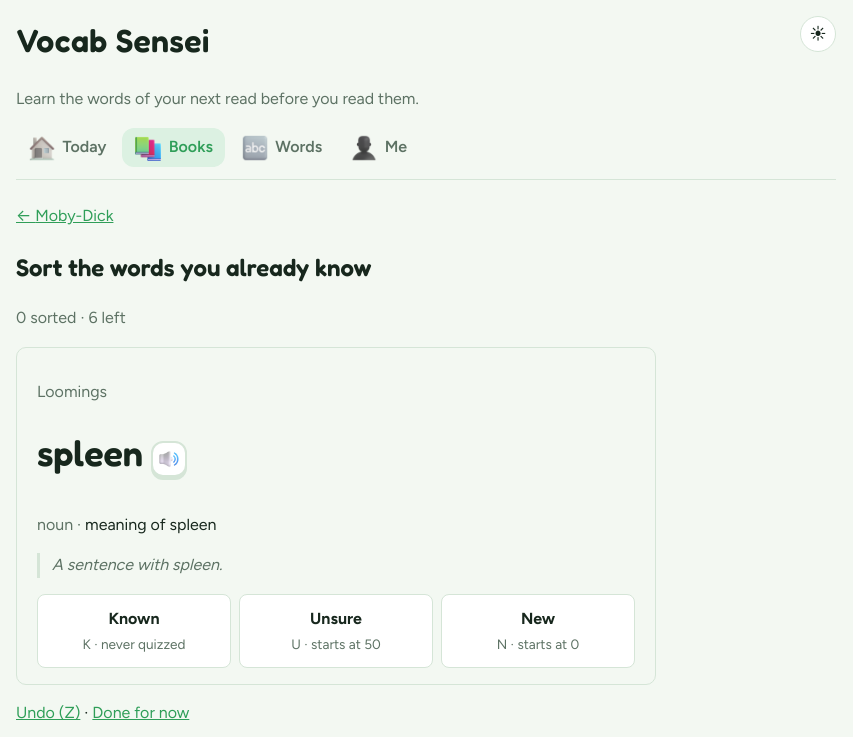
Test: sorting words › fetches more cards before running out
Click the button "Known K · never quizzed" at (134, 631), box 37,594 -> 231,668
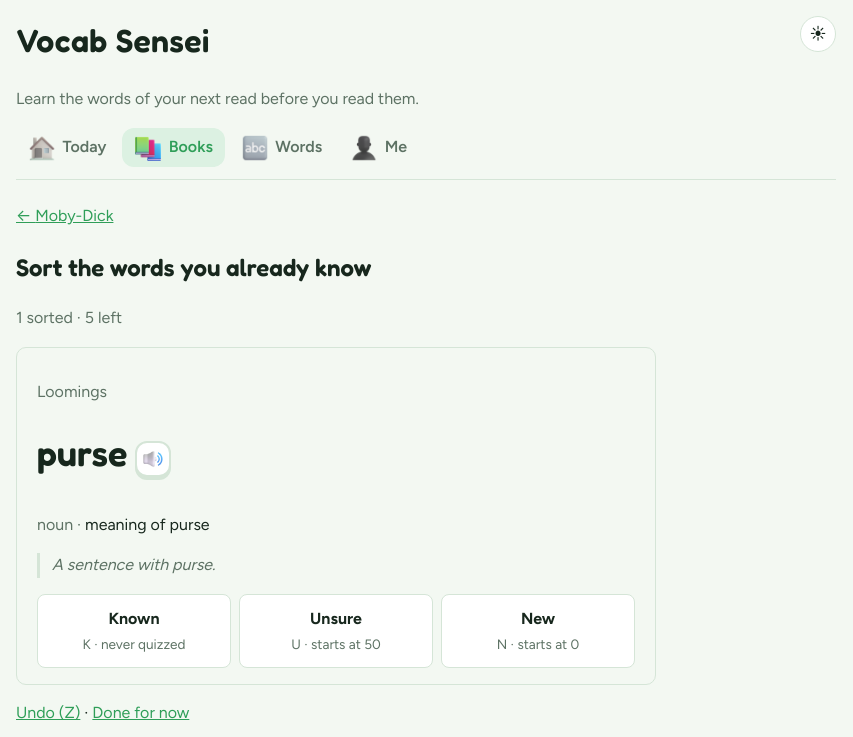
Expected: the heading "purse" is shown, 37,425 -> 127,481
